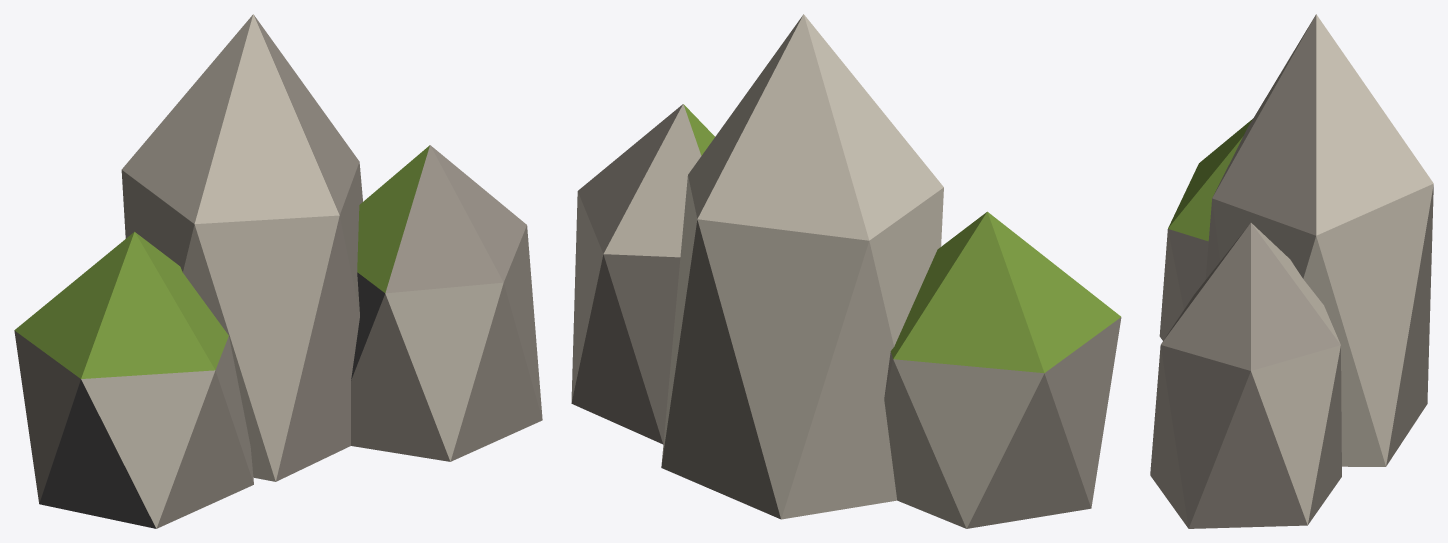
The model's file is Boulder_Tall.fbx.
The picture shows the model from 3 angles, left to right: view 1: azimuth 30°, elevation 25°; view 2: azimuth 150°, elevation 25°; view 3: azimuth 270°, elevation 25°; orthographic projection. The views are drawn at different scales.
Visible parts, largest first — view 1: Boulder_Tall; view 2: Boulder_Tall; view 3: Boulder_Tall.
Part boxes in pixels (bbox=[...]): Boulder_Tall: bbox=[14, 14, 542, 528]; Boulder_Tall: bbox=[571, 14, 1121, 528]; Boulder_Tall: bbox=[1150, 14, 1433, 528].
Bounding box in the file's own units: 3.34 × 2.75 × 1.74.
